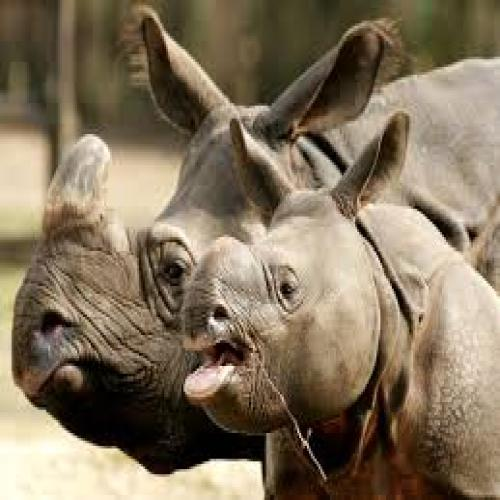rhino-endangered: (13, 5, 500, 471), (184, 123, 500, 500)
